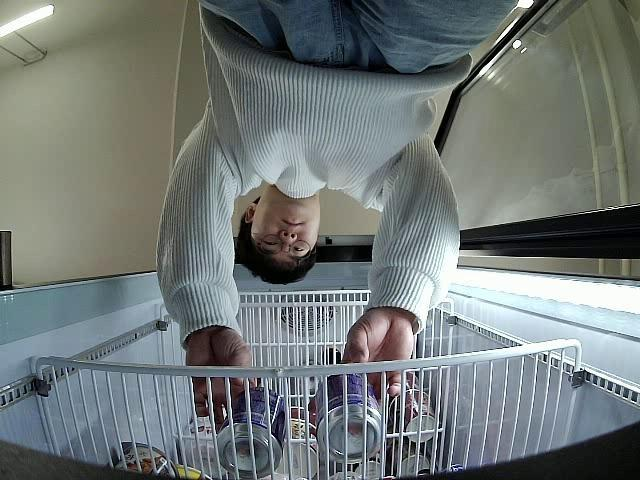14_welchsGrape: (216, 388, 288, 478), (314, 374, 380, 465)
